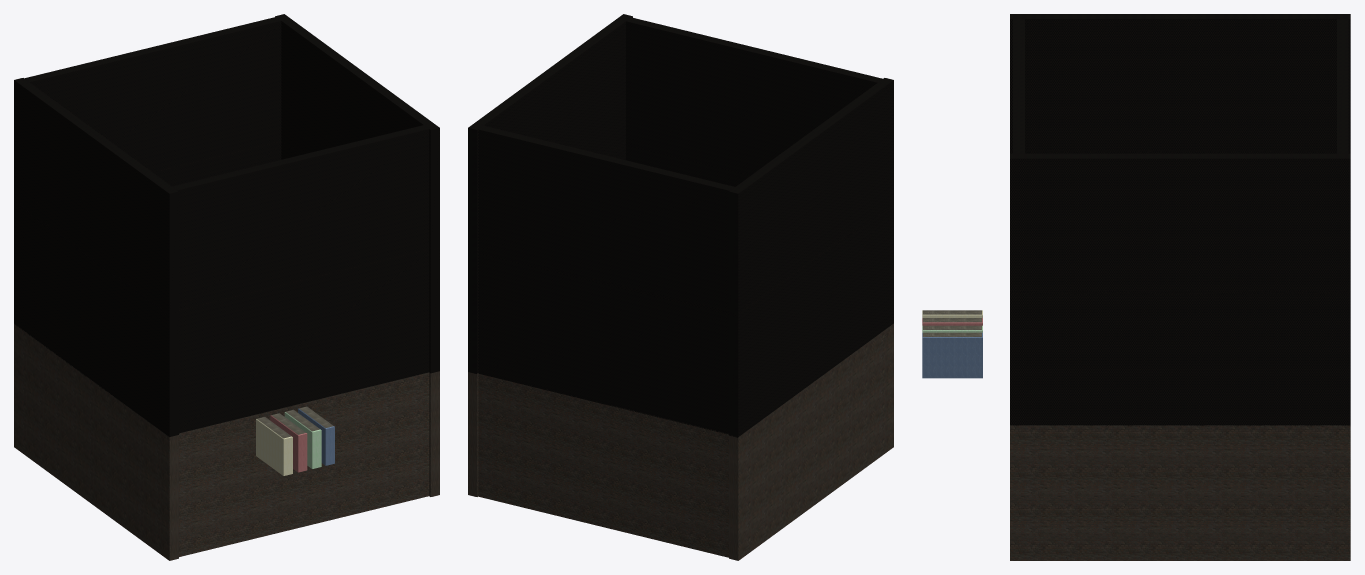
The model's file is colorblocksbaked.gltf.
3 renders of one model, left to right at view 1: azimuth 30°, elevation 25°; view 2: azimuth 150°, elevation 25°; view 3: azimuth 270°, elevation 25°, orthographic. The views are drawn at different scales.
Visible parts, largest first — view 1: Cube__13_001 (×2), Cube__15_001 (×2), Cube__13_, Cube__14_001 (×2), Cube__15_, Cube__16_001 (×2), Object, Cube__16_, Object001, Object002, Object003; view 2: Cube__14_001 (×2), Cube__15_001 (×2), Cube__14_, Cube__13_001 (×2), Cube__15_, Cube__16_001 (×2), Cube__16_; view 3: Cube__16_001 (×2), Cube__16_, Cube__15_001 (×2), Object003, Cube__13_001, Cube__14_001.
Part boxes in pixels (<box>): Cube__13_001 (×2): <box>172,125,429,433</box>; Cube__15_001 (×2): <box>14,78,178,436</box>; Cube__13_: <box>179,372,429,556</box>; Cube__14_001 (×2): <box>24,17,281,186</box>; Cube__15_: <box>14,323,178,560</box>; Cube__16_001 (×2): <box>275,14,439,373</box>; Object: <box>256,417,292,475</box>; Cube__16_: <box>429,371,439,496</box>; Object001: <box>270,413,307,472</box>; Object002: <box>284,409,321,468</box>; Object003: <box>298,406,334,465</box>; Cube__14_001 (×2): <box>478,125,734,434</box>; Cube__15_001 (×2): <box>729,78,893,437</box>; Cube__14_: <box>478,373,728,557</box>; Cube__13_001 (×2): <box>626,17,882,186</box>; Cube__15_: <box>729,323,893,560</box>; Cube__16_001 (×2): <box>468,14,632,373</box>; Cube__16_: <box>468,372,478,496</box>; Cube__16_001 (×2): <box>1010,153,1350,426</box>; Cube__16_: <box>1010,425,1350,560</box>; Cube__15_001 (×2): <box>1010,14,1350,153</box>; Object003: <box>922,332,982,378</box>; Cube__13_001: <box>1013,19,1024,154</box>; Cube__14_001: <box>1337,19,1348,153</box>.
Size of the model in its own units: 106 by 138 by 133.
16 materials, 14 textured.
